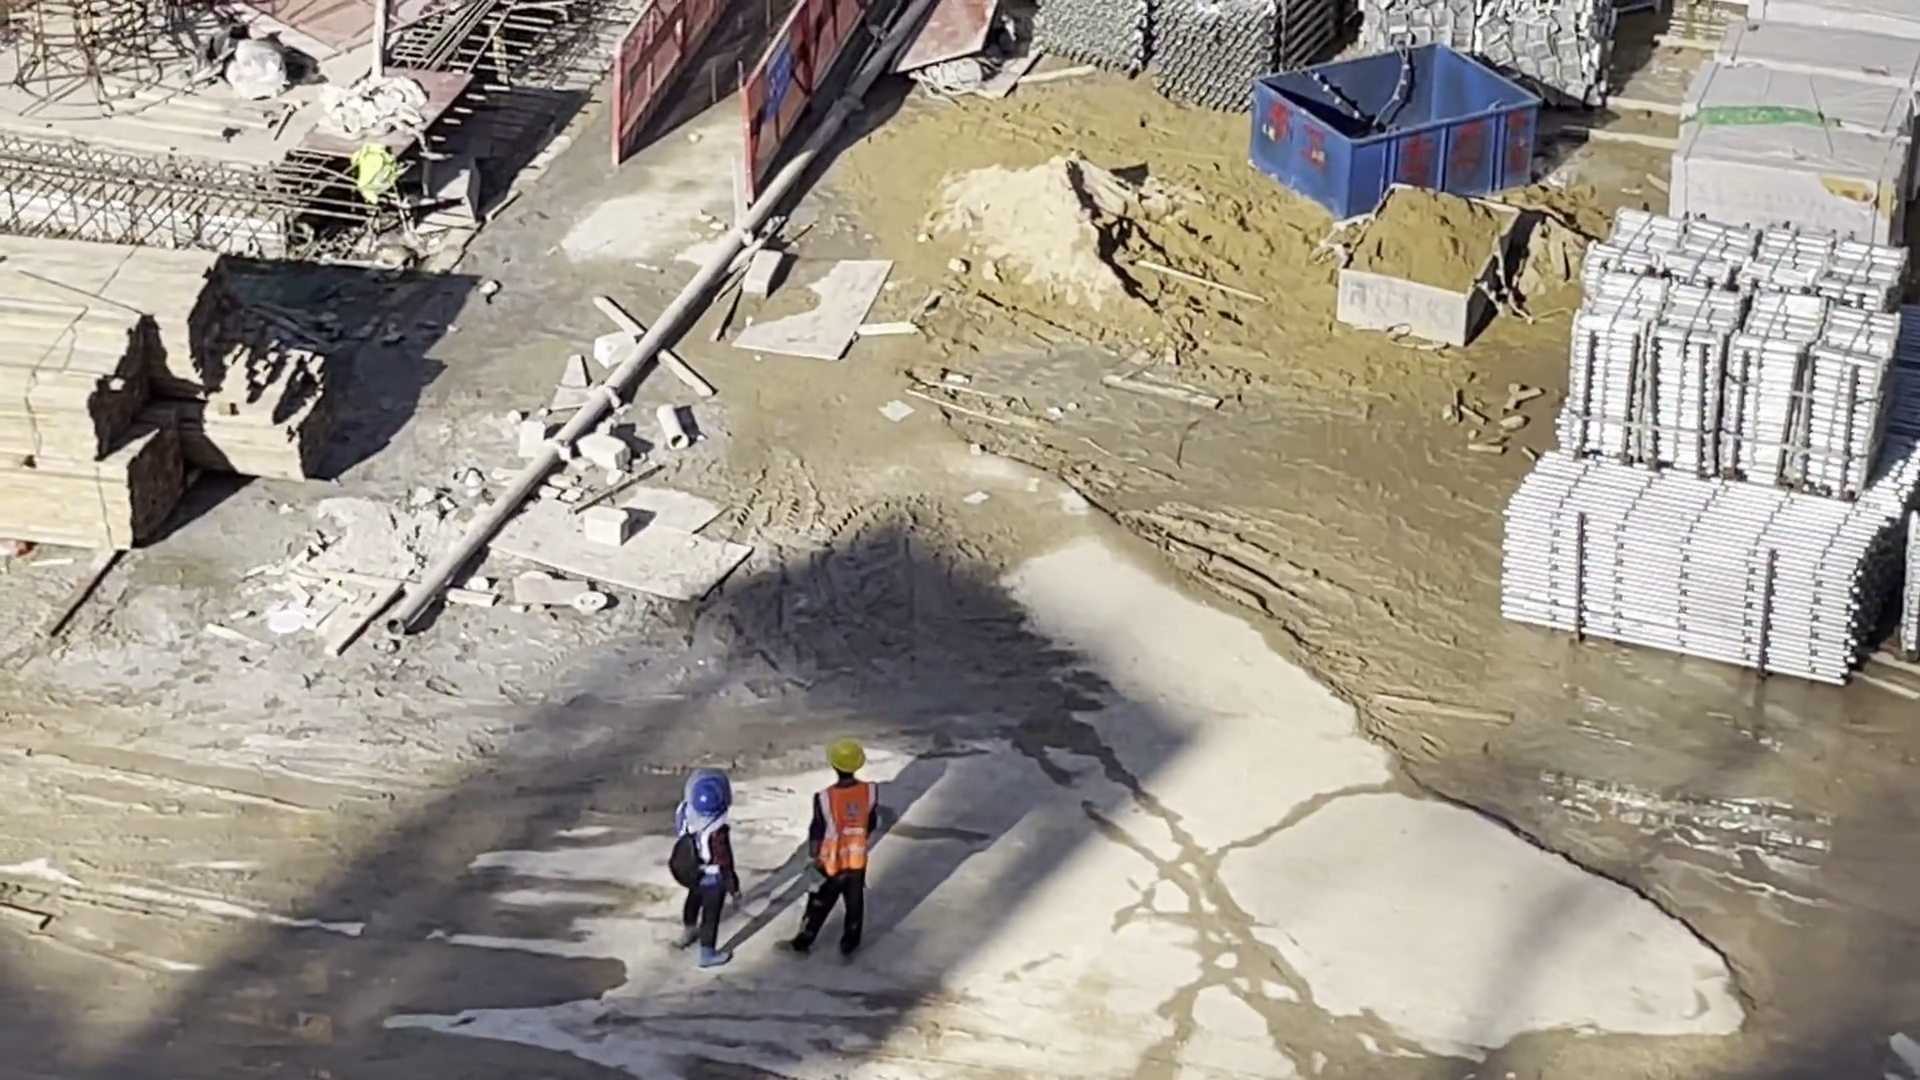fence: (617, 4, 865, 147)
helmet: (692, 778, 730, 818), (827, 741, 862, 774)
hopper: (1254, 42, 1535, 219), (1335, 184, 1519, 350)
person: (797, 743, 867, 961), (673, 776, 738, 965)
scaffold: (1579, 215, 1893, 493), (1500, 453, 1879, 685), (1041, 1, 1339, 112)
slogan: (770, 35, 789, 106)
vest: (821, 789, 873, 869), (683, 815, 723, 884)
wood: (1, 239, 232, 541)
